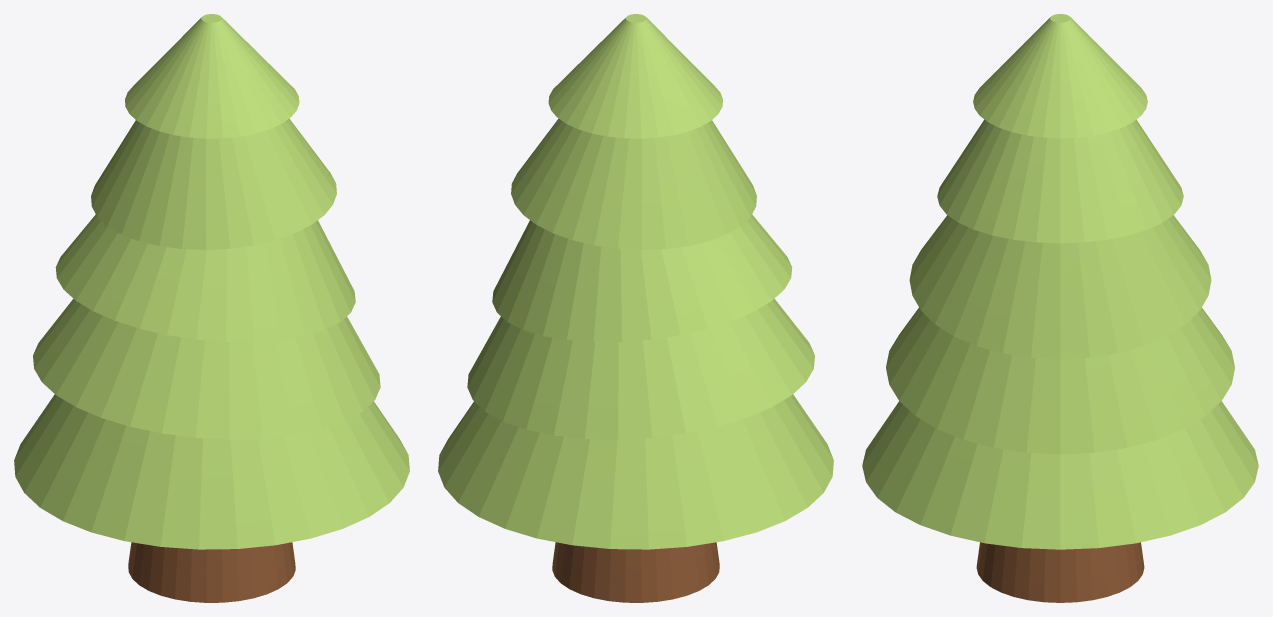
The model's file is Tree1.fbx.
The picture shows the model from 3 angles, left to right: view 1: azimuth 30°, elevation 25°; view 2: azimuth 150°, elevation 25°; view 3: azimuth 270°, elevation 25°; orthographic projection.
Parts seen in each view (by area): view 1: Green1, Green5, Green4, Green3, Green2, Base.001; view 2: Green1, Green5, Green4, Green3, Green2, Base.001; view 3: Green1, Green5, Green4, Green3, Green2, Base.001.
Boxes of the visible parts, x1,y1,x2,y2 form: Green1: (14,394,409,549); Green5: (33,299,380,439); Green4: (55,214,355,341); Green3: (91,118,336,249); Green2: (125,14,299,138); Base.001: (128,542,295,602); Green1: (438,394,833,549); Green5: (467,299,814,439); Green4: (492,214,792,341); Green3: (511,118,756,249); Green2: (548,14,722,138); Base.001: (552,542,719,602); Green1: (862,401,1258,549); Green5: (886,307,1234,454); Green4: (909,215,1211,359); Green3: (937,119,1183,243); Green2: (973,14,1147,138); Base.001: (976,542,1144,602).
Size of the model in its own units: 1.75 by 2.67 by 1.75.
Materials: 1 (1 with a texture image).
